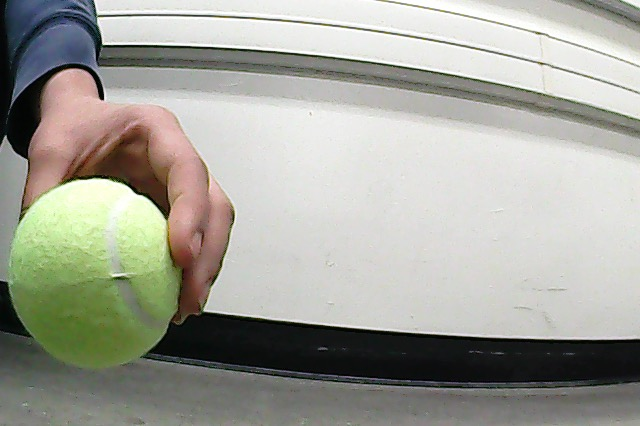ball: (5, 177, 187, 375)
